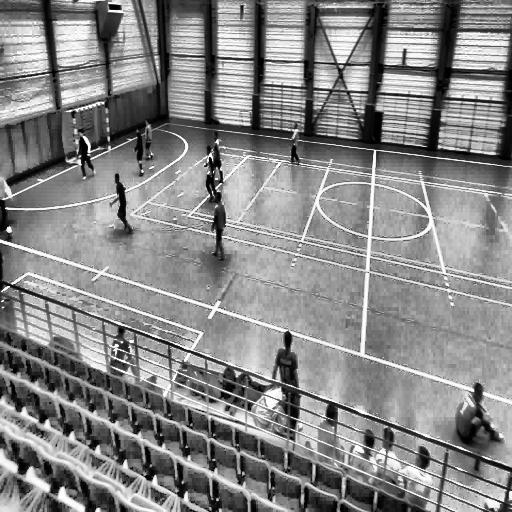ball: (6, 225, 14, 239)
player: (110, 173, 133, 235), (75, 126, 95, 181), (211, 192, 226, 262), (203, 142, 218, 204), (210, 130, 224, 188), (132, 125, 146, 180), (0, 171, 13, 229), (144, 120, 154, 161), (290, 124, 300, 164)
